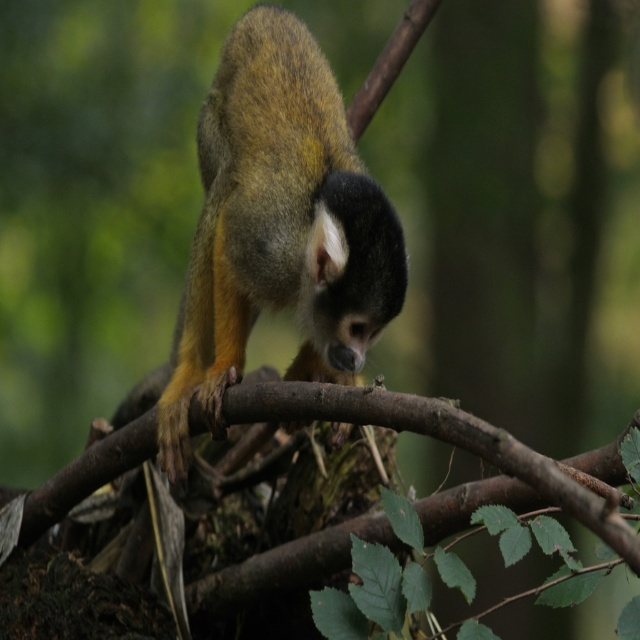Monkey: (155, 0, 409, 490)
